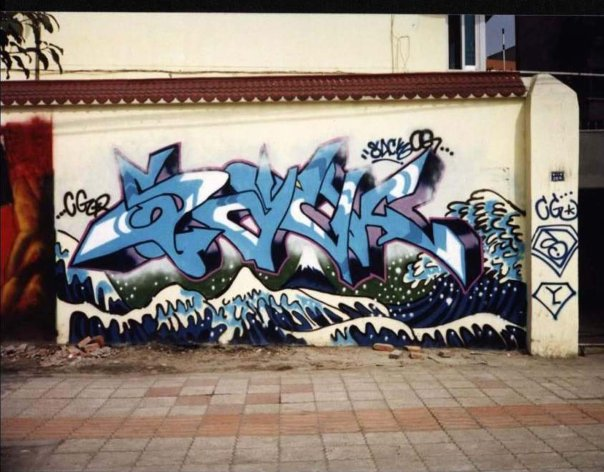graffity: (53, 134, 536, 354), (1, 113, 65, 349), (529, 188, 581, 324), (353, 125, 456, 167), (53, 183, 117, 224)
